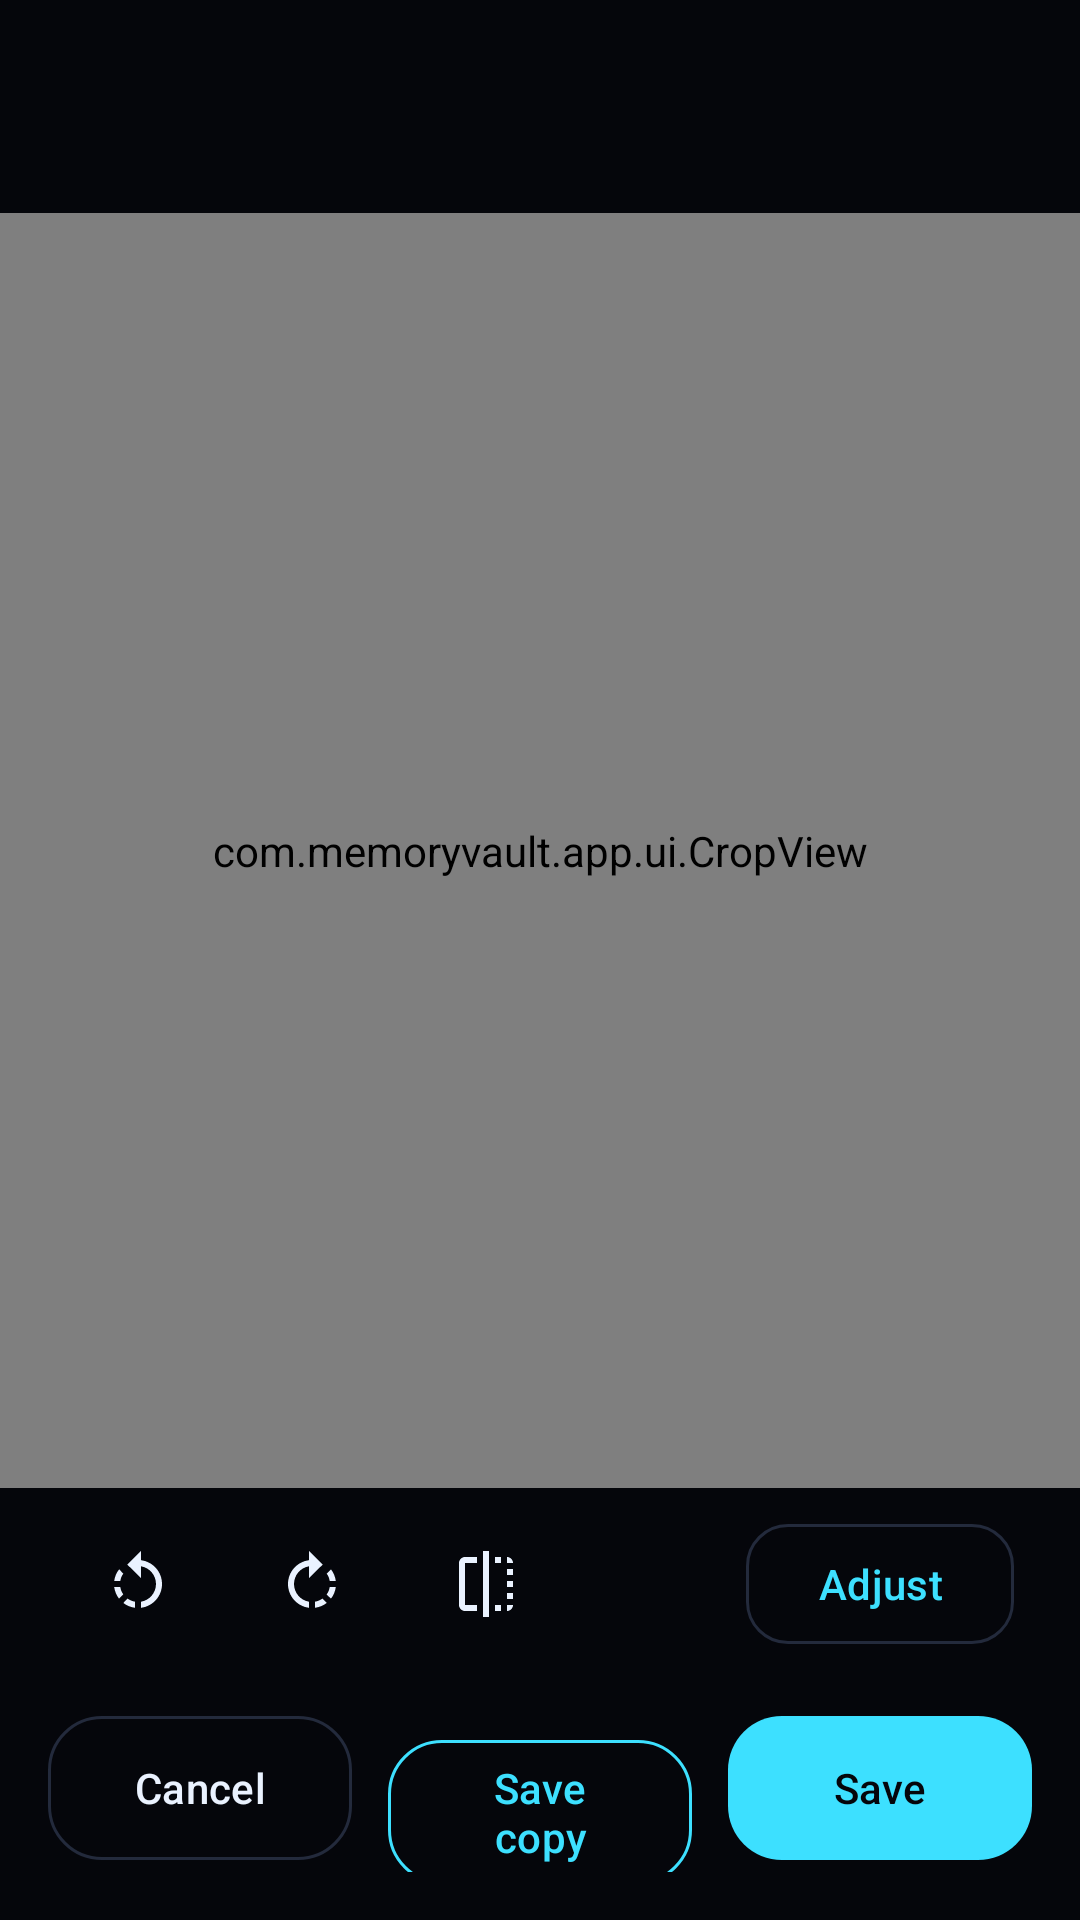

Where to tap for icons on this 1080*1920 app screen, as point (x, y):
Flip: point (486, 1584)
Rotate left: point (138, 1579)
Rotate right: point (312, 1579)
